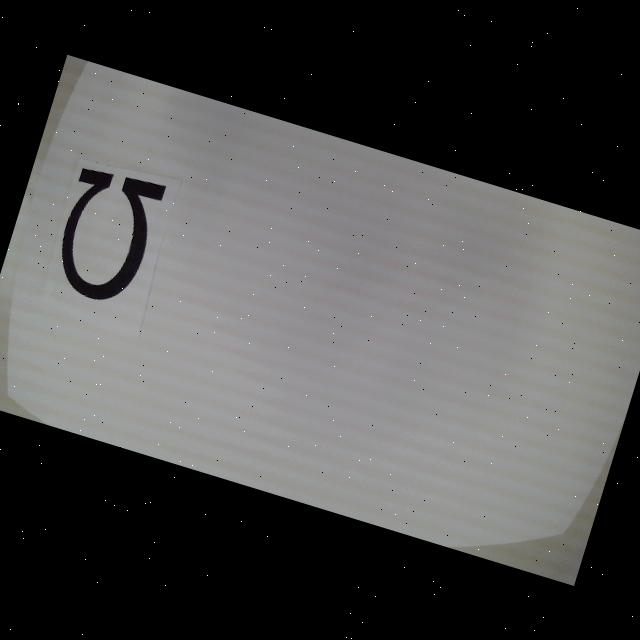OMEGA: (46, 160, 167, 310)
